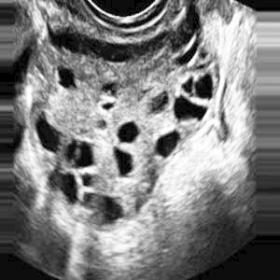PCOS: (32, 109, 64, 154), (48, 168, 78, 203), (173, 96, 208, 124), (96, 196, 128, 223), (113, 143, 136, 180), (53, 66, 78, 92), (116, 120, 142, 145), (158, 131, 180, 160), (195, 72, 217, 100), (76, 142, 94, 171), (152, 92, 167, 115), (80, 172, 95, 194), (65, 136, 77, 160), (101, 80, 118, 96), (182, 76, 196, 94), (101, 100, 118, 111)
